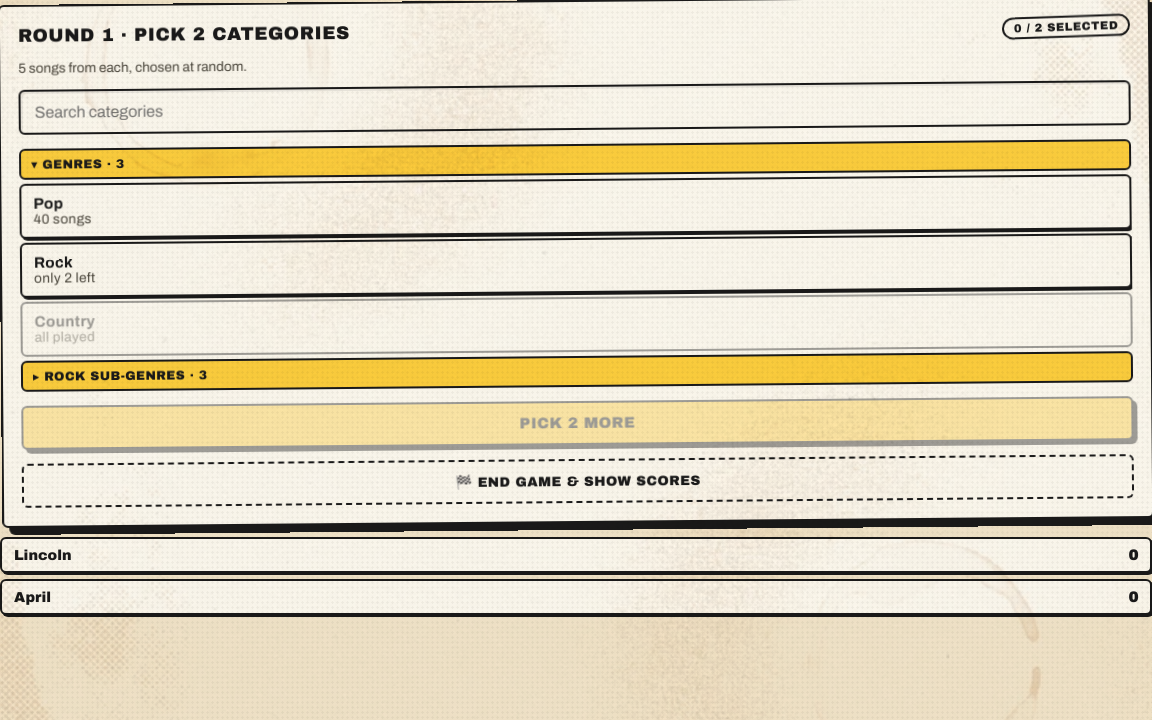
Test case: RoundSetupScreen › deselects via the chip
This screenshot has width=1152, height=720.
Click the button "Pop 40 songs" at point(48, 204), box [19, 174, 1132, 239]
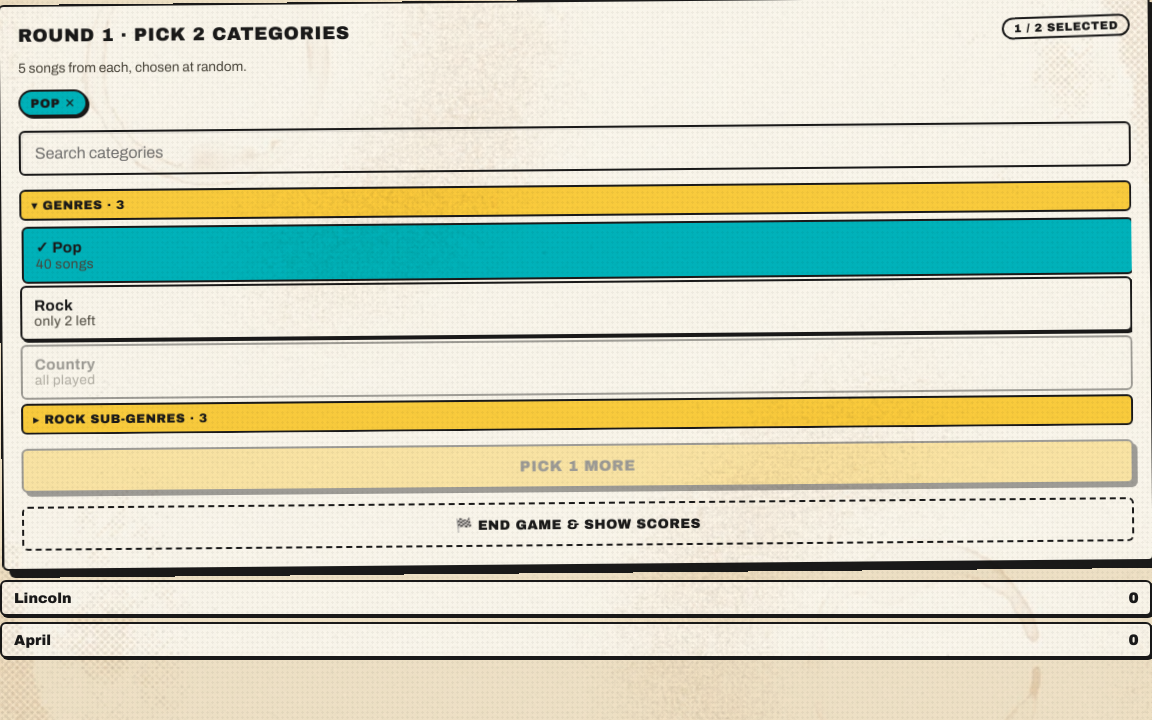
Click the button "Pop ✕" at point(53, 103), box [18, 89, 88, 117]
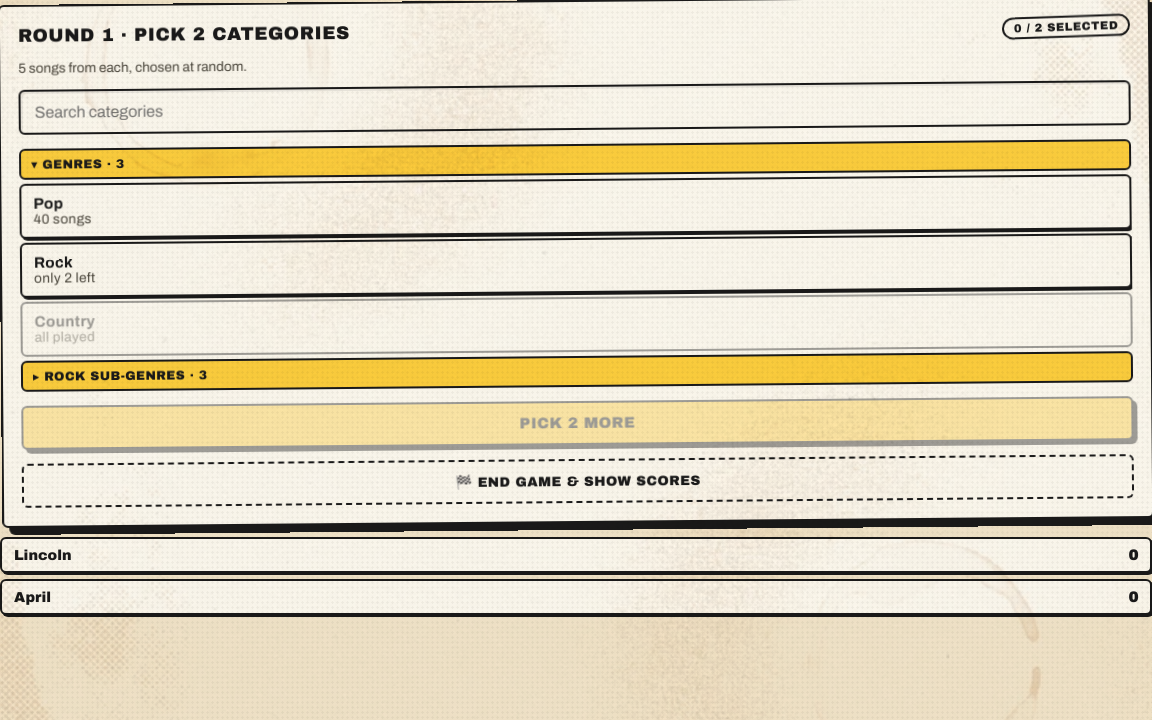
Now the text "0 / 2 selected" is shown, box [1001, 14, 1130, 40]
